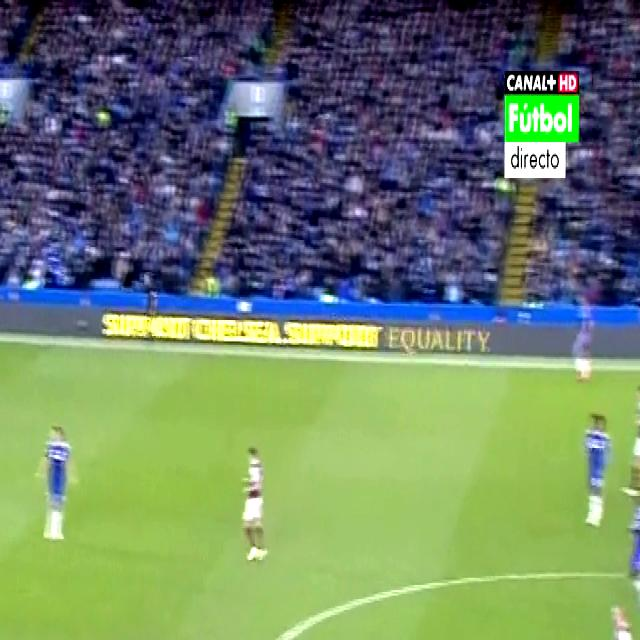soccer-player: (34, 403, 83, 544), (232, 430, 278, 575), (575, 402, 613, 537), (564, 292, 599, 390), (593, 592, 640, 640)
